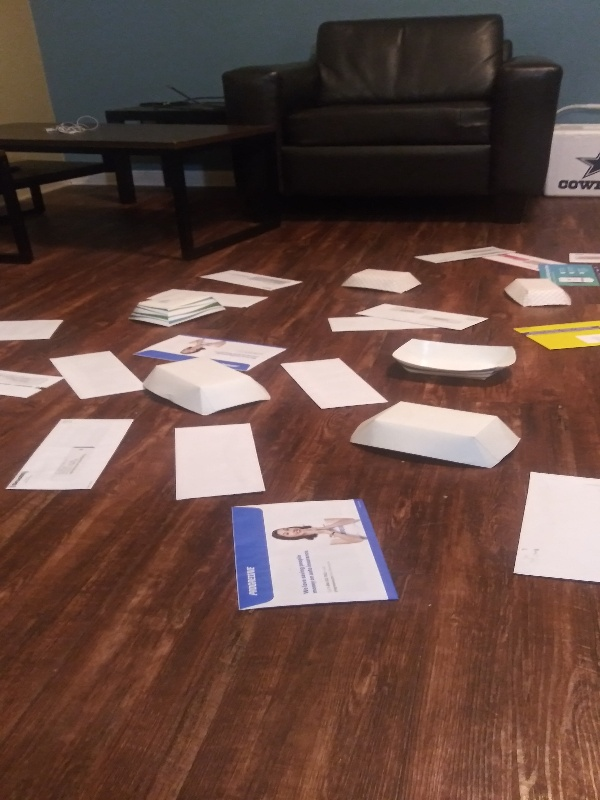plate: (345, 398, 524, 474), (139, 354, 276, 421), (388, 335, 523, 388), (125, 288, 231, 329), (500, 273, 578, 309), (334, 266, 424, 297)
